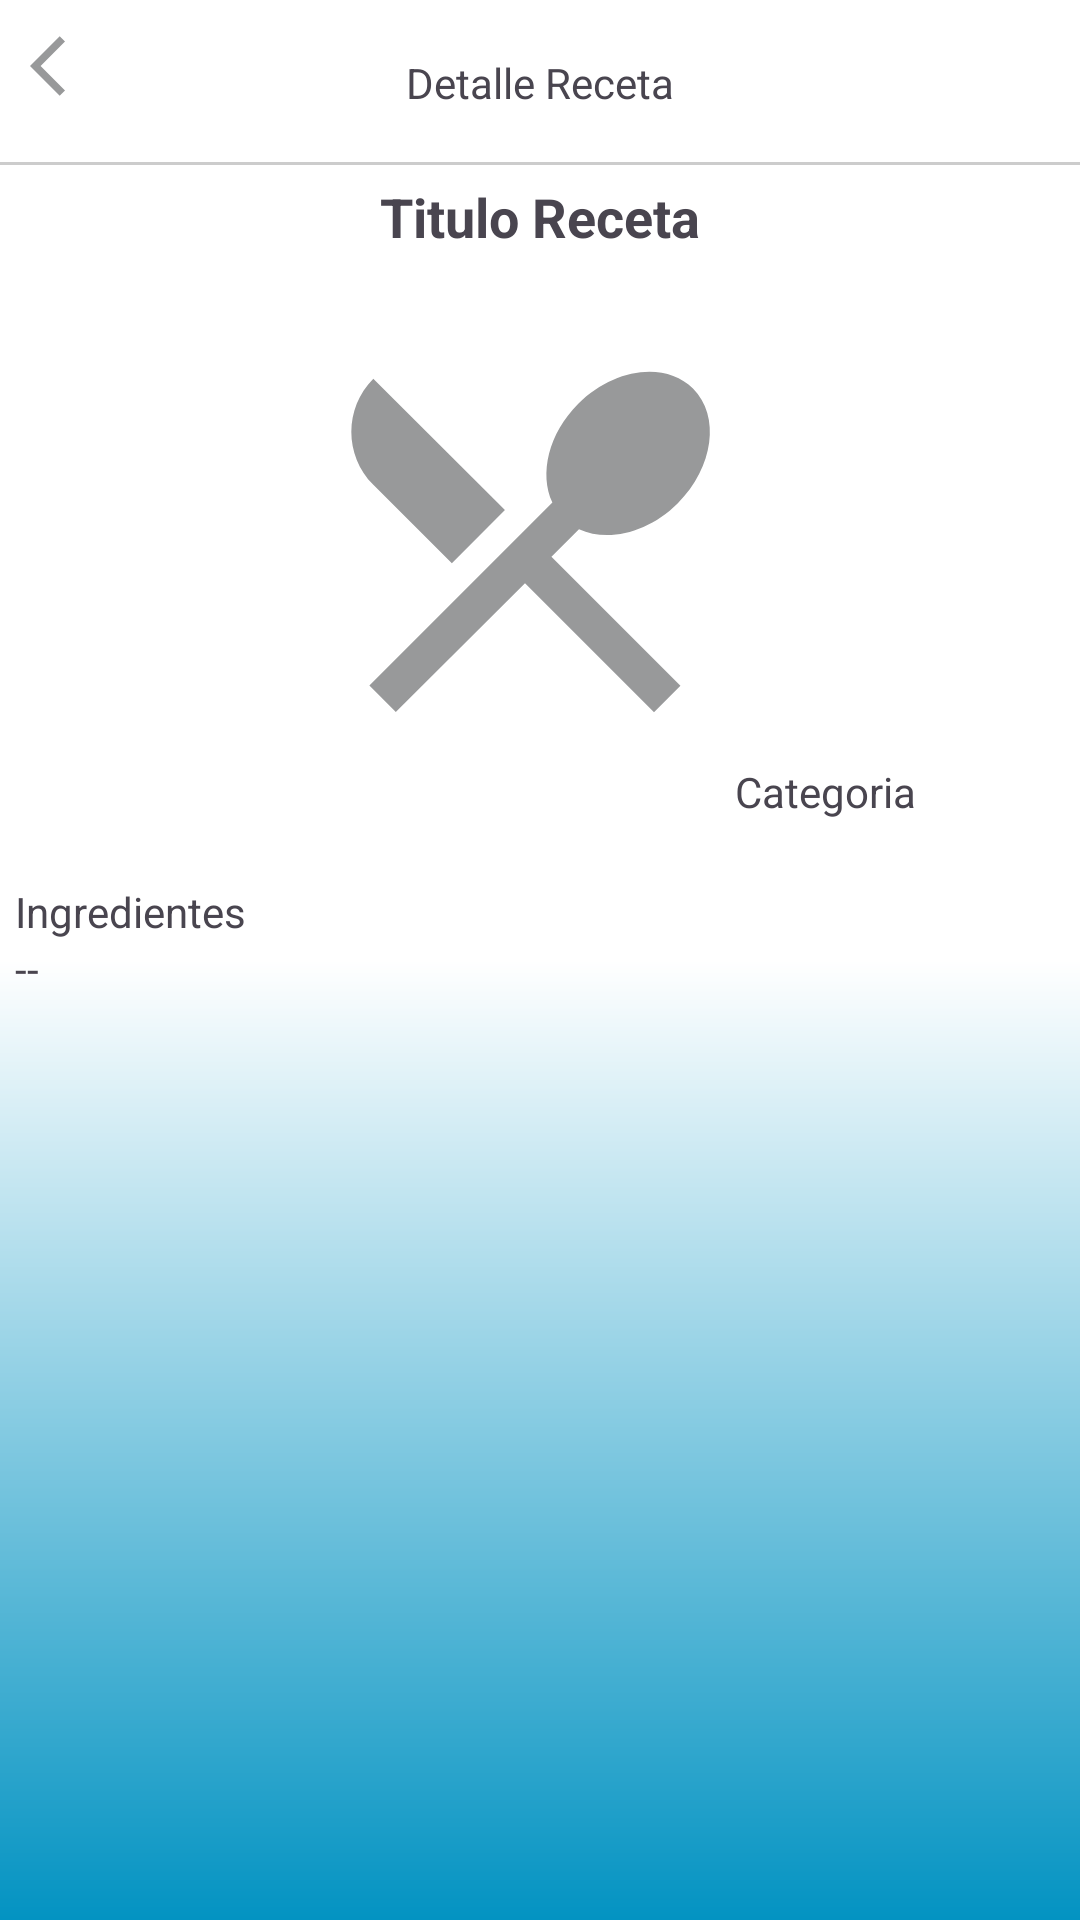

Icon bounding boxes for this 1080px x 1920px phone screenshot, format [left=x1, top=y1, right=x2, bottom=y2]:
receta item: [left=351, top=371, right=710, bottom=712]
volver: [left=30, top=36, right=65, bottom=96]
